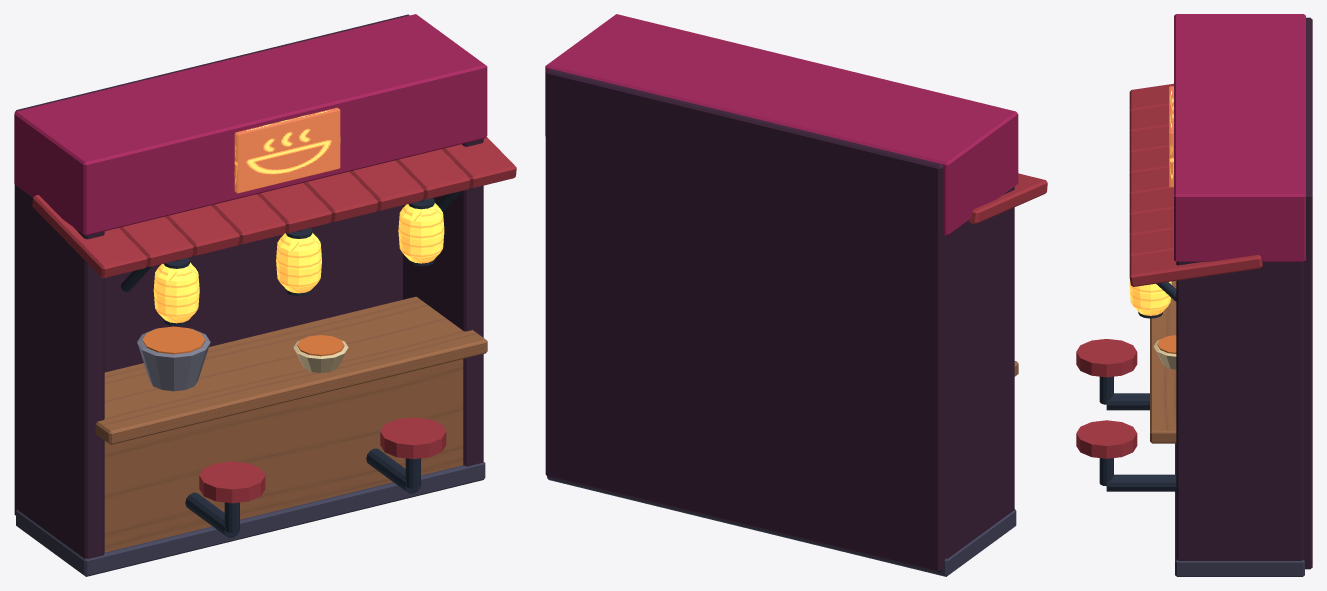
Rendered from ramen-counter-facade.glb.
The picture shows the model from 3 angles, left to right: view 1: azimuth 30°, elevation 25°; view 2: azimuth 150°, elevation 25°; view 3: azimuth 270°, elevation 25°; orthographic projection. The views are drawn at different scales.
Parts seen in each view (by area): view 1: Header, Counter_front, Side_return, Back_wall, Countertop, Side_return.001, Base, Bowl_icon, Awning_panel, Stool.001, Serving_vessel, Stool (+16 smaller); view 2: Back_wall, Header, Side_return, Base, Awning_panel; view 3: Side_return.001, Header, Back_wall, Countertop, Awning_panel.008, Base, Stool.001, Stool, Seat_arm.001, Paper_lantern.002, Awning_panel.006, Awning_panel.005 (+11 smaller).
Part boxes in pixels (x1,y1,x2,y2): Header: [14, 14, 487, 235]; Counter_front: [104, 359, 463, 552]; Side_return: [17, 187, 104, 558]; Back_wall: [14, 14, 409, 515]; Countertop: [95, 296, 487, 444]; Side_return.001: [403, 139, 483, 466]; Base: [16, 461, 485, 576]; Bowl_icon: [234, 107, 340, 193]; Awning_panel: [32, 195, 147, 278]; Stool.001: [380, 417, 446, 459]; Serving_vessel: [137, 328, 210, 391]; Stool: [199, 461, 265, 503]; Back_wall: [545, 68, 945, 572]; Header: [545, 14, 1018, 235]; Side_return: [945, 186, 1014, 558]; Base: [547, 476, 1016, 576]; Awning_panel: [969, 173, 1047, 224]; Side_return.001: [1176, 262, 1303, 560]; Header: [1174, 14, 1305, 261]; Back_wall: [1303, 17, 1312, 569]; Countertop: [1150, 281, 1176, 443]; Awning_panel.008: [1129, 250, 1262, 286]; Base: [1175, 443, 1304, 576]; Stool.001: [1076, 420, 1137, 458]; Stool: [1076, 339, 1137, 377]; Seat_arm.001: [1106, 474, 1176, 491]; Paper_lantern.002: [1129, 281, 1171, 315]; Awning_panel.006: [1129, 208, 1173, 236]; Awning_panel.005: [1129, 187, 1173, 215].
Size of the model in its own units: 3.12 by 2.99 by 1.67.
3 materials, 3 textured.
